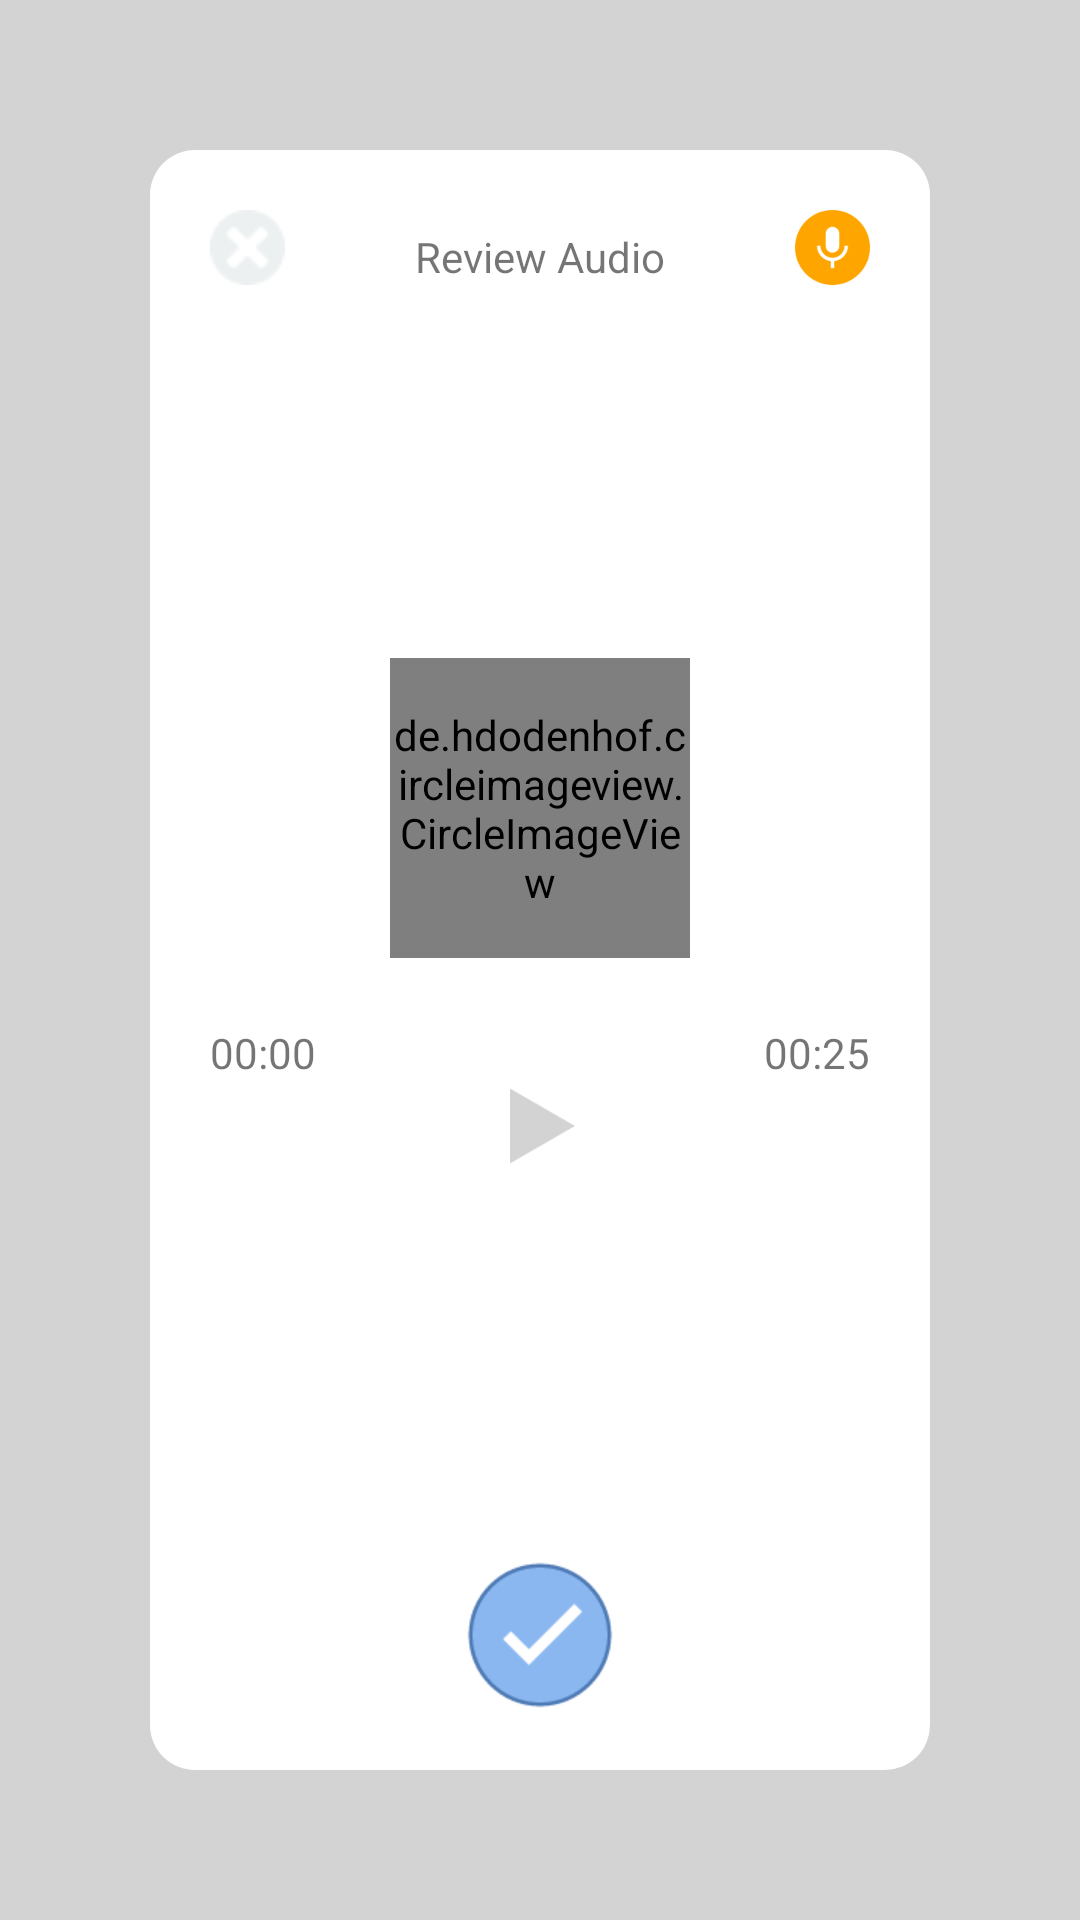

Icons on this 1080*1920 Android screen, each with the point to tap as (x=x, y=y):
check: (x=540, y=1635)
grayplay: (x=542, y=1126)
recordaudioorange: (x=832, y=247)
